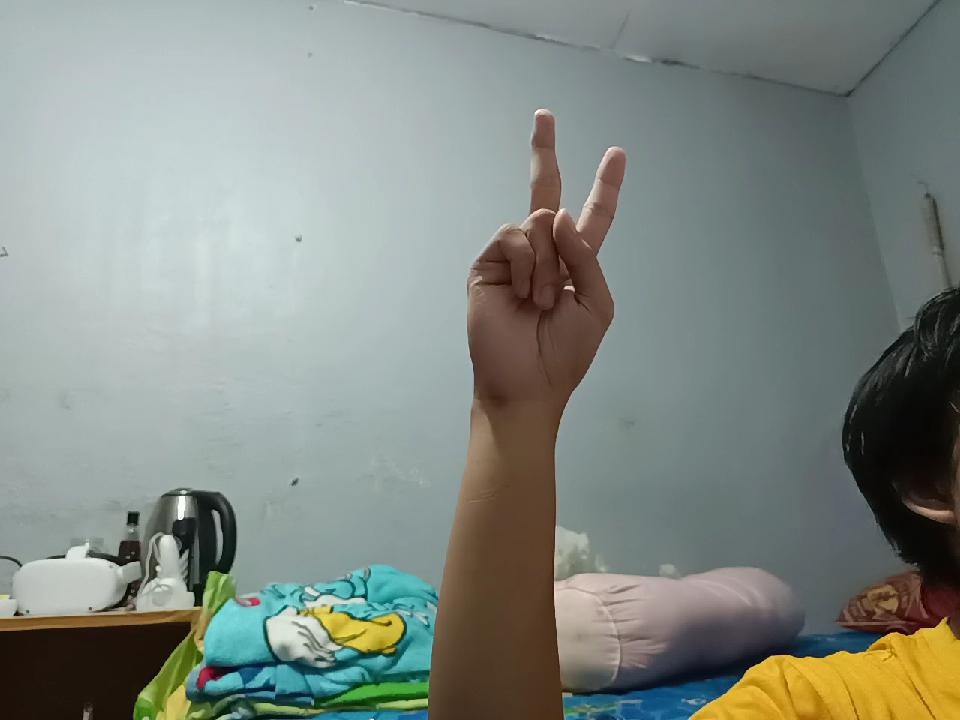scissors: (472, 80, 636, 428)
